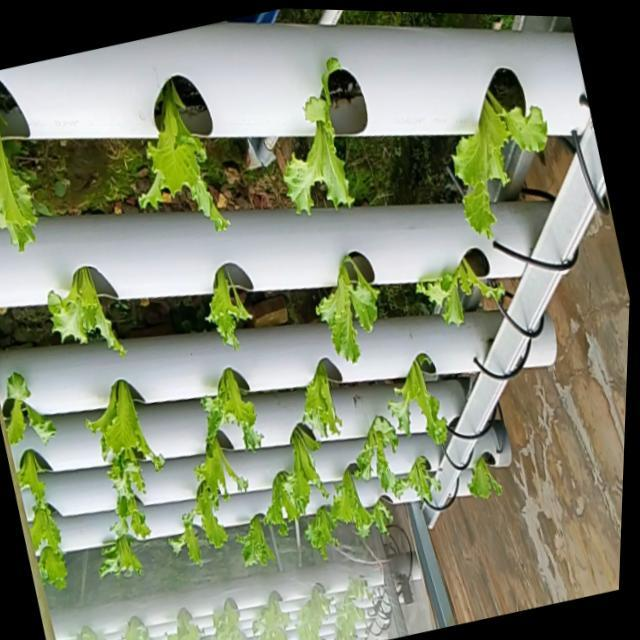Baby: (457, 94, 554, 242), (140, 81, 230, 234), (286, 60, 357, 215), (318, 260, 382, 368), (49, 268, 126, 357), (421, 265, 514, 333), (185, 432, 250, 529), (274, 424, 331, 521), (391, 358, 451, 449), (218, 489, 279, 574), (0, 132, 37, 252), (334, 470, 394, 541), (3, 372, 57, 445), (102, 437, 147, 523), (215, 370, 262, 451), (208, 270, 253, 353), (304, 362, 345, 440), (28, 502, 67, 580), (396, 458, 444, 510), (167, 509, 211, 565), (306, 506, 341, 561), (100, 534, 143, 576), (470, 463, 507, 505)
